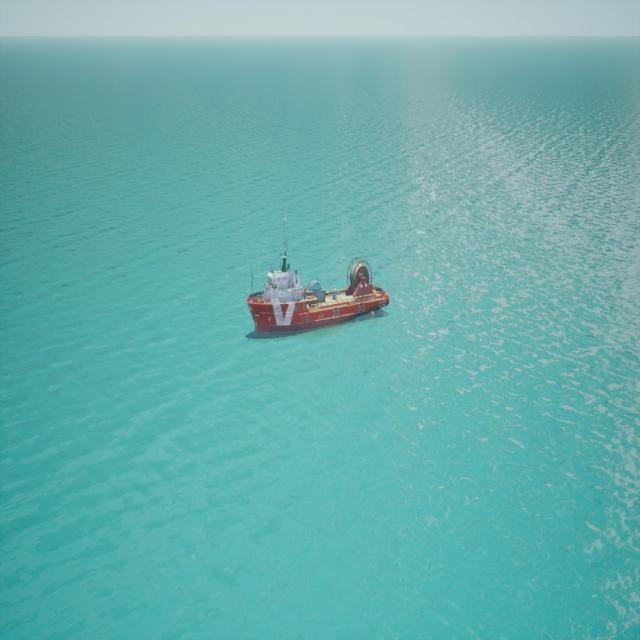tug boat: (244, 224, 390, 345)
